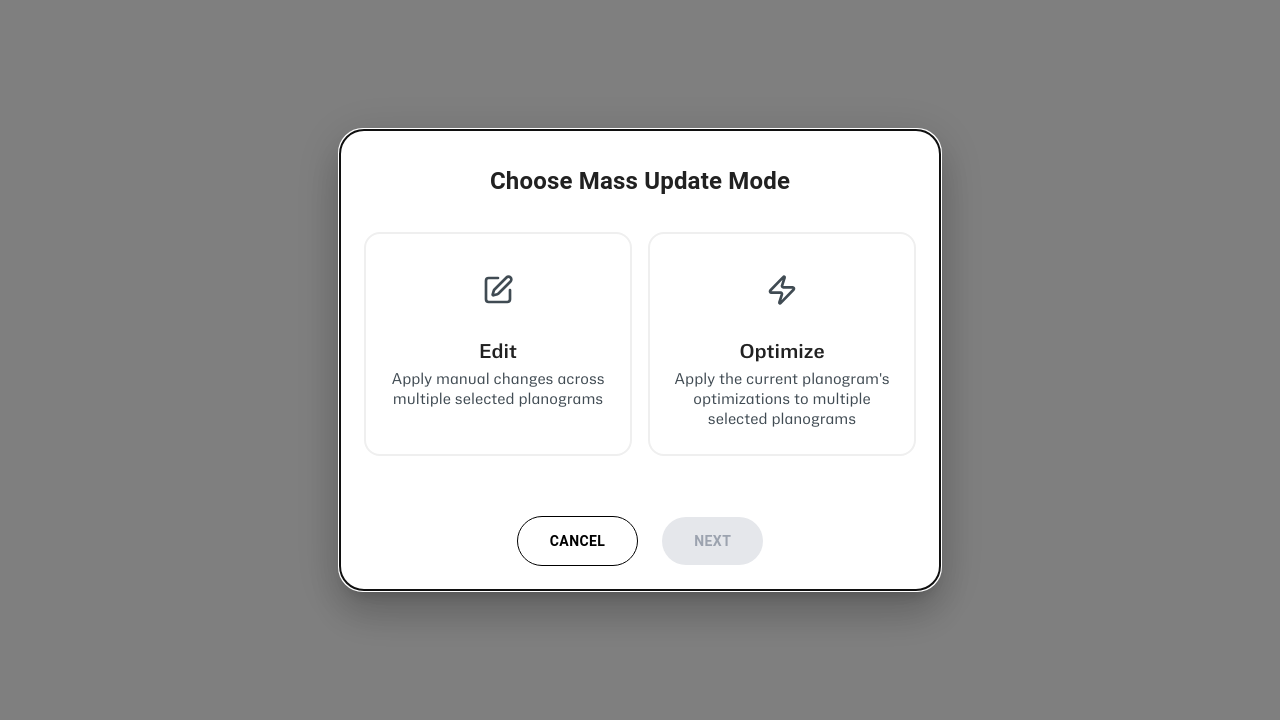
Test case: MassUpdateModeModal › mode selection › selecting Optimize option sets optimize mode
This screenshot has width=1280, height=720.
Click the button "Optimize" at [782, 344], box left=648, top=232, right=916, bottom=456
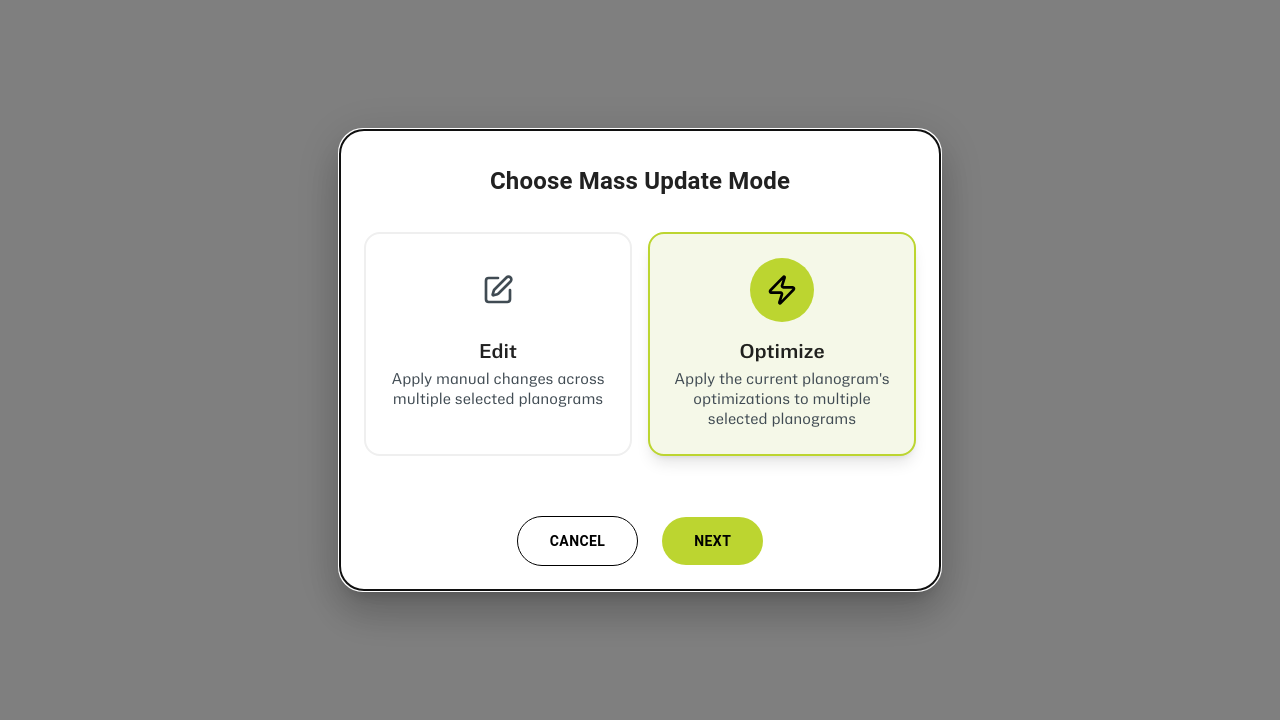
expect the button "Next" is enabled: met, box left=662, top=517, right=763, bottom=565
